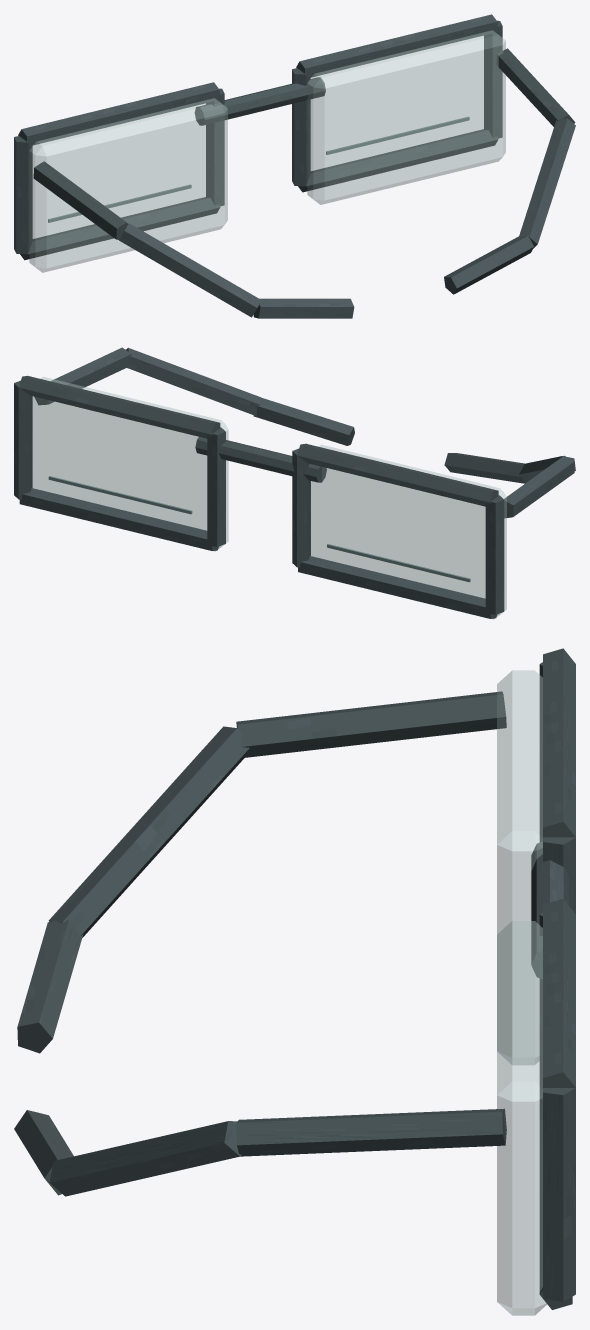
The model's file is glasses_bifocal.glb.
The picture shows the model from 3 angles, top to bottom: view 1: azimuth 30°, elevation 25°; view 2: azimuth 150°, elevation 25°; view 3: azimuth 270°, elevation 25°; orthographic projection. The views are drawn at different scales.
Parts seen in each view (by area): view 1: block_lens 1, block_lens -1, block_lens rim 1 1, block_lens rim -1 1, block_lens rim 1 3, block_folded temple -1 1, block_lens rim -1 3, block_folded temple 1 1, block_bridge, block_folded temple -1 0, block_lens rim -1 0, block_folded temple -1 2 (+7 smaller); view 2: block_lens -1, block_lens 1, block_lens rim -1 1, block_lens rim 1 1, block_lens rim -1 3, block_lens rim 1 3, block_folded temple 1 1, block_lens rim -1 0, block_lens rim 1 0, block_folded temple 1 2, block_bridge, block_lens rim 1 2 (+7 smaller); view 3: block_lens 1, block_lens -1, block_folded temple 1 0, block_folded temple -1 0, block_folded temple -1 1, block_folded temple 1 1, block_lens rim 1 2, block_lens rim -1 1, block_lens rim 1 1, block_folded temple -1 2, block_bridge, block_folded temple 1 2 (+2 smaller).
Part boxes in pixels (left/top/right/bottom): block_lens 1: left=307, top=30, right=505, bottom=204; block_lens -1: left=29, top=98, right=227, bottom=272; block_lens rim 1 1: left=296, top=14, right=497, bottom=78; block_lens rim -1 1: left=18, top=82, right=219, bottom=146; block_lens rim 1 3: left=298, top=129, right=498, bottom=192; block_folded temple -1 1: left=119, top=223, right=261, bottom=317; block_lens rim -1 3: left=20, top=197, right=220, bottom=260; block_folded temple 1 1: left=519, top=118, right=575, bottom=248; block_bridge: left=194, top=77, right=325, bottom=125; block_folded temple -1 0: left=33, top=161, right=128, bottom=239; block_lens rim -1 0: left=14, top=136, right=32, bottom=254; block_folded temple -1 2: left=253, top=298, right=354, bottom=318; block_lens -1: left=310, top=444, right=506, bottom=619; block_lens 1: left=32, top=376, right=228, bottom=551; block_lens rim -1 1: left=297, top=443, right=498, bottom=506; block_lens rim 1 1: left=19, top=375, right=220, bottom=438; block_lens rim -1 3: left=298, top=556, right=497, bottom=618; block_lens rim 1 3: left=19, top=488, right=218, bottom=550; block_folded temple 1 1: left=126, top=347, right=260, bottom=416; block_lens rim -1 0: left=485, top=495, right=504, bottom=614; block_lens rim 1 0: left=207, top=427, right=225, bottom=546; block_folded temple 1 2: left=253, top=397, right=354, bottom=445; block_bridge: left=195, top=437, right=326, bottom=482; block_lens rim 1 2: left=14, top=380, right=32, bottom=499; block_lens 1: left=497, top=921, right=546, bottom=1315; block_lens -1: left=497, top=670, right=542, bottom=1064; block_folded temple 1 0: left=236, top=1108, right=506, bottom=1156; block_folded temple -1 0: left=236, top=691, right=506, bottom=757; block_folded temple -1 1: left=48, top=726, right=249, bottom=937; block_folded temple 1 1: left=49, top=1121, right=241, bottom=1196; block_lens rim 1 2: left=543, top=1088, right=575, bottom=1301; block_lens rim -1 1: left=543, top=648, right=575, bottom=837; block_lens rim 1 1: left=543, top=899, right=575, bottom=1087; block_folded temple -1 2: left=17, top=919, right=83, bottom=1053; block_bridge: left=531, top=841, right=568, bottom=979; block_folded temple 1 2: left=14, top=1110, right=73, bottom=1195.
Size of the model in its own units: 0.1366 by 0.0363 by 0.074.
Materials: 2 (2 with a texture image).
